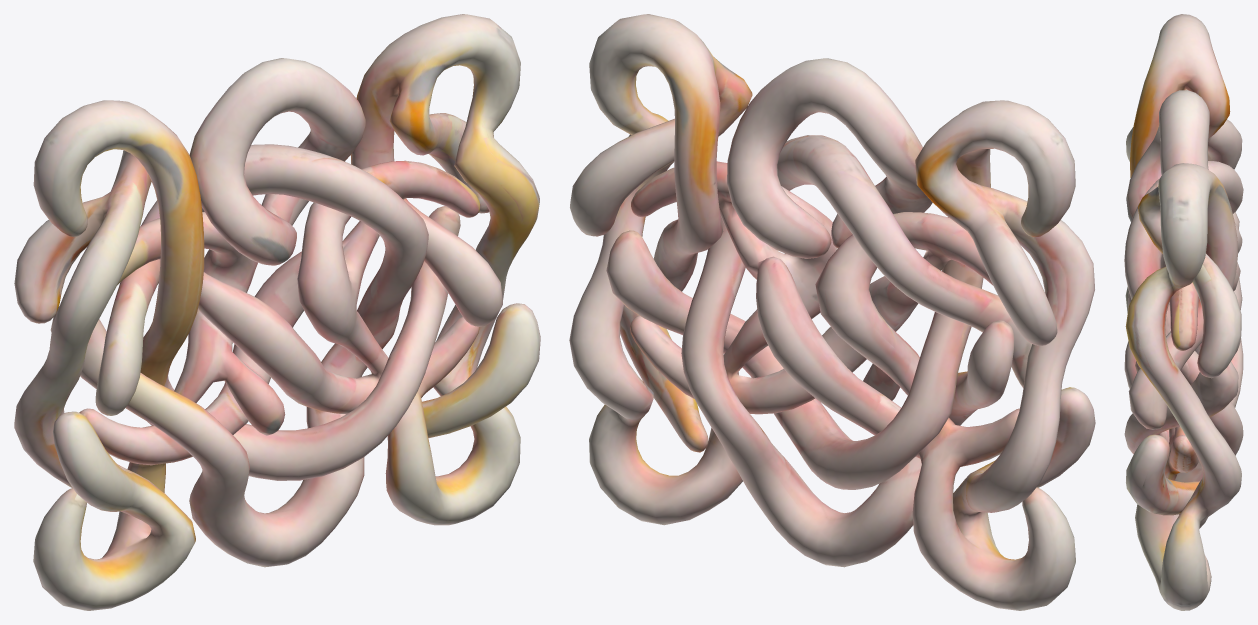
The model's file is Interwoven_Radiance_0110010745_texture.glb.
3 renders of one model, left to right at view 1: azimuth 30°, elevation 25°; view 2: azimuth 150°, elevation 25°; view 3: azimuth 270°, elevation 25°, orthographic. The views are drawn at different scales.
Bounding box in the file's own units: 2.01 × 2 × 0.4979.
Materials: 1 (1 with a texture image).
